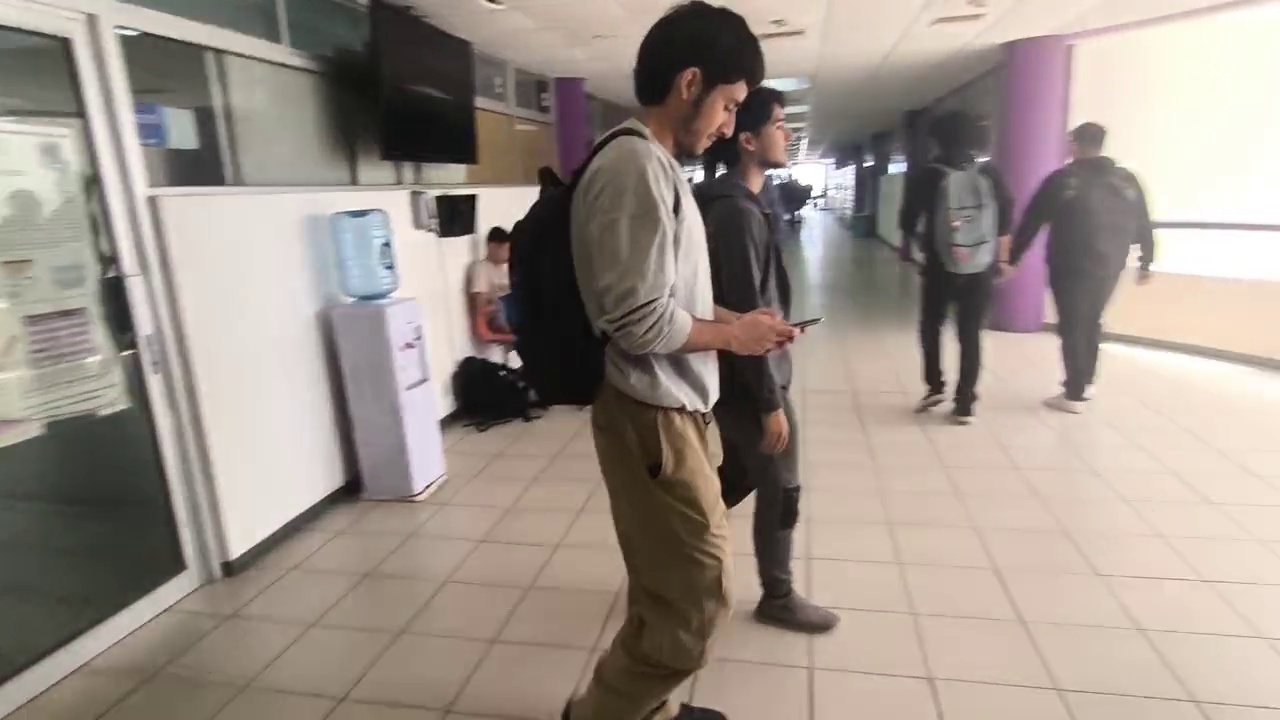mixto2: (782, 310, 831, 333)
